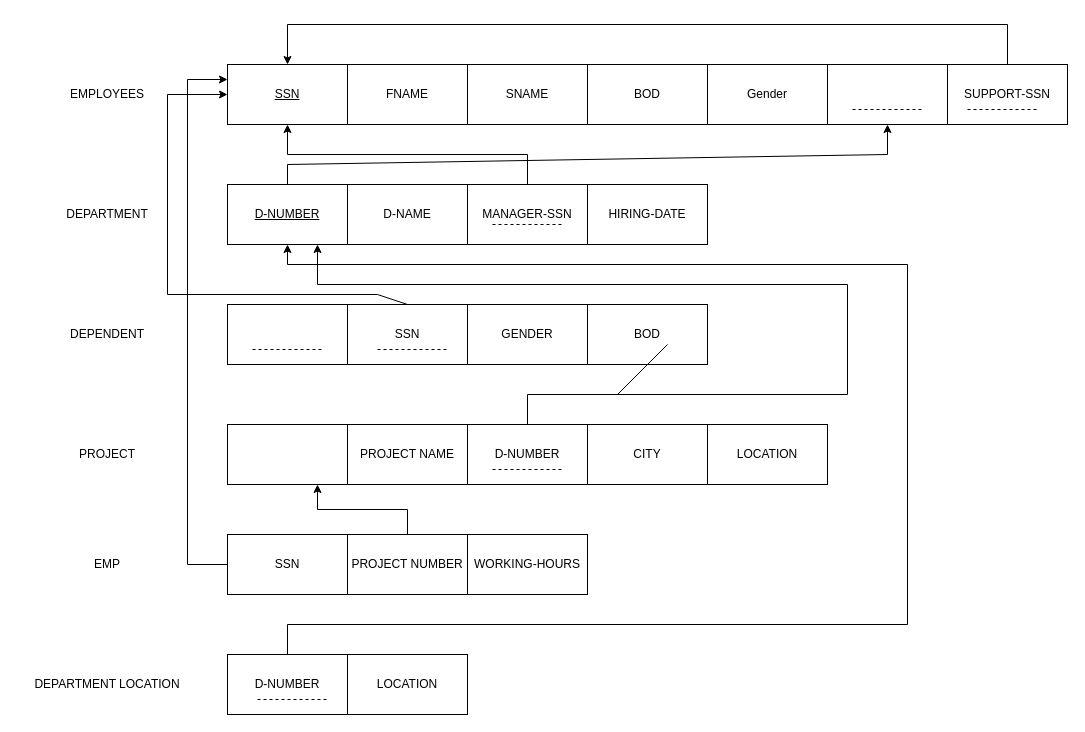
Some shapes in this 1085 by 732 pixel diagram are drawn without their labels. The shapes that lost their labels are listed below. From the top down, each one's centre as x and y in pixels, then its label:
At (x=887, y=94): "D-NUM".
At (x=287, y=334): "NAME".
At (x=287, y=454): "PROJECT NUM".
